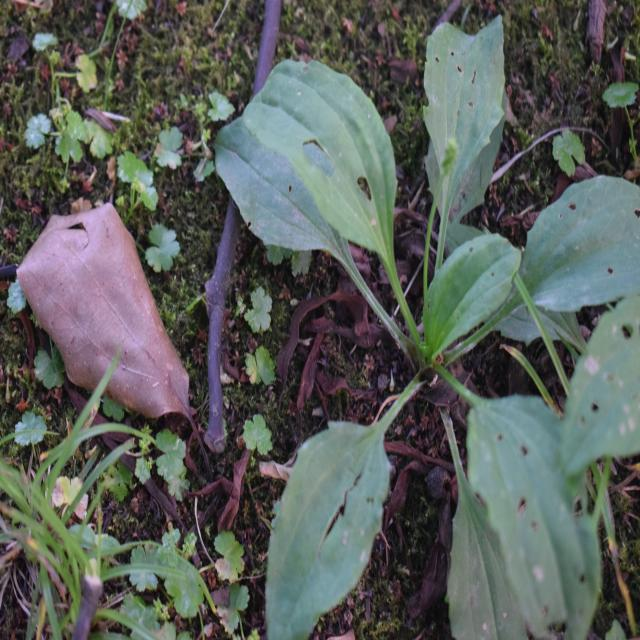plantain: (225, 46, 621, 598)
